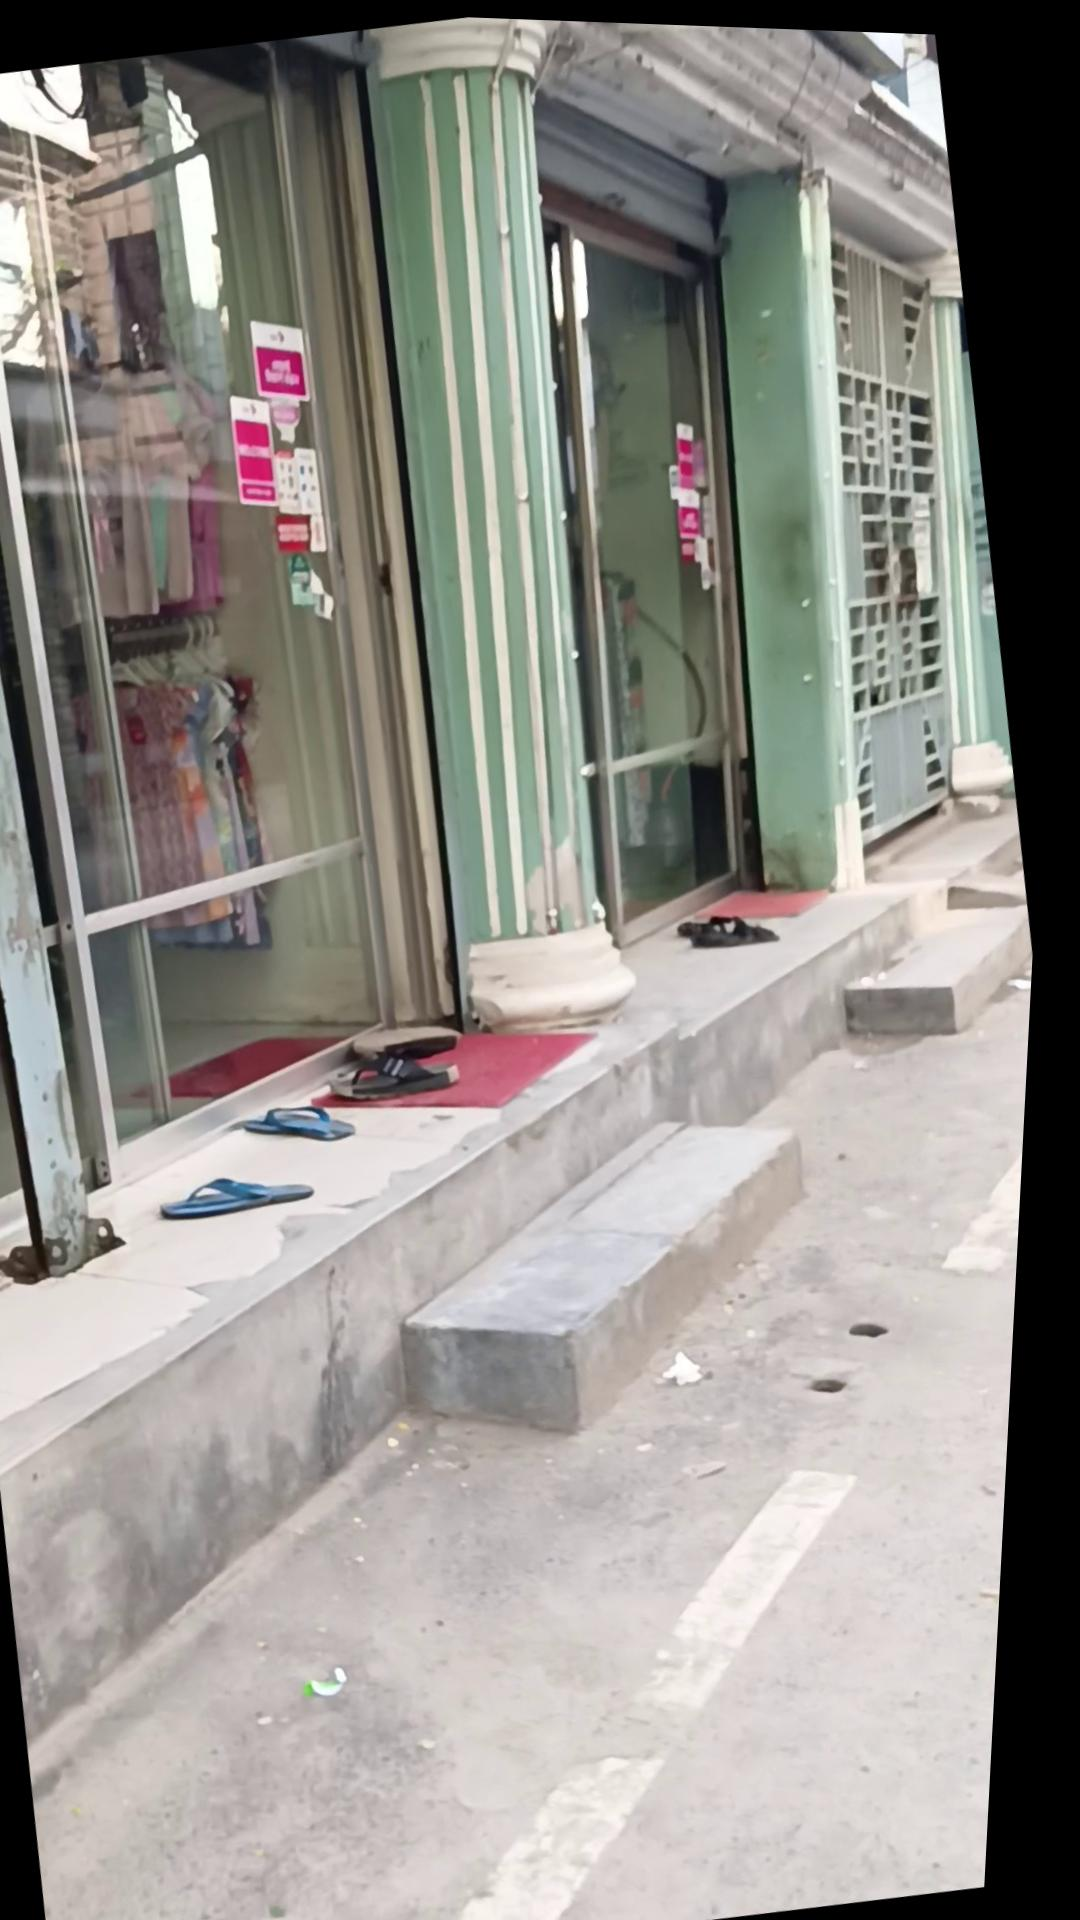Broken-road: (339, 790, 1048, 1466)
Crosswalk: (463, 898, 655, 1042)
Dog: (315, 11, 713, 1042), (0, 74, 189, 1294)
Obstacle: (0, 18, 538, 1261)
